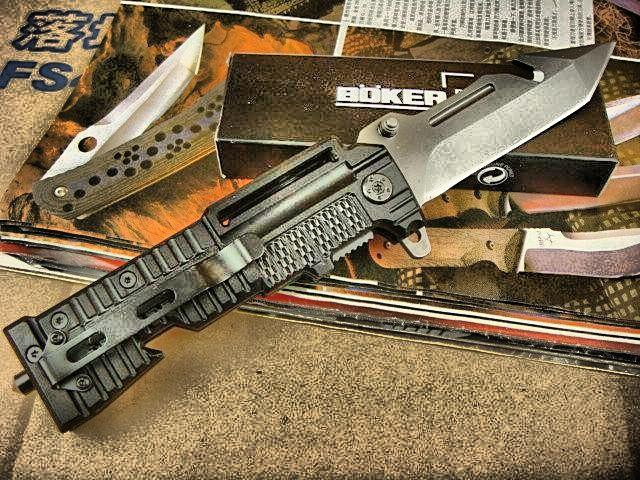knife: (362, 30, 626, 216)
